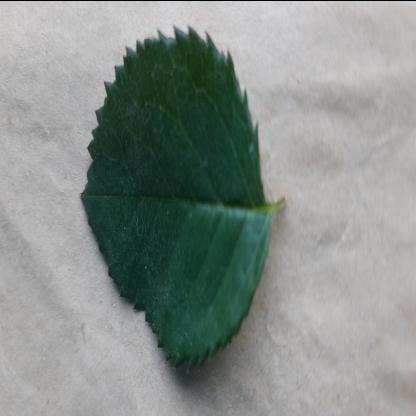normal: (82, 19, 270, 363)
